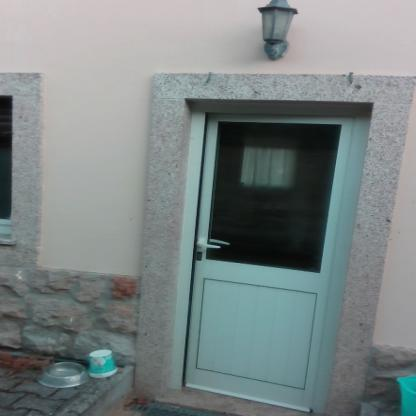door: (194, 116, 317, 411)
lever: (194, 239, 222, 253)
